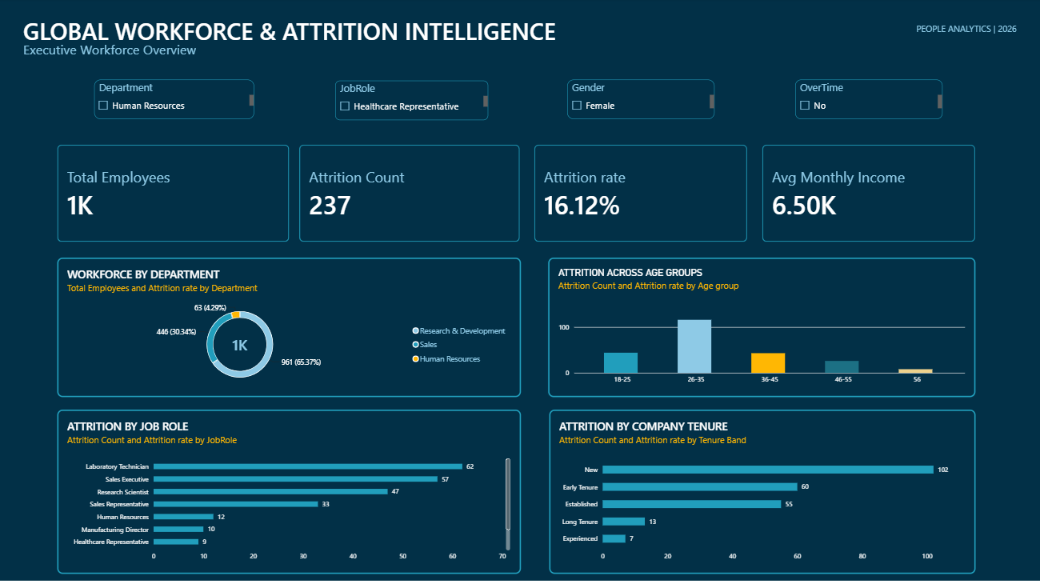

What the dashboard file says about the page in this screenshot:
{"tool":"powerbi","page":{"name":"Executive Overview","canvas":[1920,1080],"ordinal":0},"visuals":[{"type":"cardVisual","title":"Total Employees","fields":{"Data":["WA_Fn-UseC_-HR-Employee-Attrition.Total Employees"]},"box":[106.4,271.3,427.8,179.5],"z":0},{"type":"cardVisual","title":"Employees Left","fields":{"Data":["WA_Fn-UseC_-HR-Employee-Attrition.Attrition Count"]},"box":[553,271.3,407,179.5],"z":1000},{"type":"cardVisual","title":"Attrition Rate","fields":{"Data":["WA_Fn-UseC_-HR-Employee-Attrition.Attrition rate"]},"box":[985,271.3,392.3,179.5],"z":2000},{"type":"cardVisual","title":"Avg Monthly Income","fields":{"Data":["WA_Fn-UseC_-HR-Employee-Attrition.Avg Monthly Income"]},"box":[1404.5,271.3,392.3,179.5],"z":3000},{"type":"donutChart","title":"WORKFORCE BY DEPARTMENT","fields":{"Category":["WA_Fn-UseC_-HR-Employee-Attrition.Department"],"Y":["WA_Fn-UseC_-HR-Employee-Attrition.Total Employees"]},"box":[106.4,477.9,853.6,256.7],"z":4000},{"type":"barChart","title":"ATTRITION BY JOB ROLE","fields":{"Category":["WA_Fn-UseC_-HR-Employee-Attrition.JobRole"],"Y":["WA_Fn-UseC_-HR-Employee-Attrition.Attrition Count"]},"box":[106.4,757.6,853.6,302.6],"z":5000},{"type":"clusteredColumnChart","title":"ATTRITION ACROSS AGE GROUPS","fields":{"Category":["WA_Fn-UseC_-HR-Employee-Attrition.Age group"],"Y":["WA_Fn-UseC_-HR-Employee-Attrition.Attrition Count"]},"box":[1010.1,477.9,786.8,256.7],"z":6000},{"type":"barChart","title":"ATTRITION BY COMPANY TENURE","fields":{"Category":["WA_Fn-UseC_-HR-Employee-Attrition.Tenure Band"],"Y":["WA_Fn-UseC_-HR-Employee-Attrition.Attrition Count"]},"box":[1012.2,757.6,784.7,302.6],"z":7000},{"type":"slicer","fields":{"Values":["WA_Fn-UseC_-HR-Employee-Attrition.Department"]},"box":[175.3,150.3,294.3,73],"z":8000},{"type":"slicer","fields":{"Values":["WA_Fn-UseC_-HR-Employee-Attrition.JobRole"]},"box":[617.7,152.3,281.7,73],"z":9000},{"type":"slicer","fields":{"Values":["WA_Fn-UseC_-HR-Employee-Attrition.Gender"]},"box":[1045.6,150.3,271.3,73],"z":10000},{"type":"slicer","fields":{"Values":["WA_Fn-UseC_-HR-Employee-Attrition.OverTime"]},"box":[1465,150.3,271.3,73],"z":11000},{"type":"textbox","box":[43.8,12.5,1110.3,116.9],"z":12000},{"type":"textbox","box":[43.8,79.3,411.1,50.1],"z":13000},{"type":"textbox","box":[1521.4,45.9,350.6,45.9],"z":14000}]}

Visuals, with their boxes in screenshot pixels (x1, y1, x2, y2), scaled from the page's 1920x1080 canvas onto the 1040x581 screenshot:
"Total Employees" cardVisual: [58,146,289,243]
"Employees Left" cardVisual: [300,146,520,243]
"Attrition Rate" cardVisual: [534,146,746,243]
"Avg Monthly Income" cardVisual: [761,146,973,243]
"WORKFORCE BY DEPARTMENT" donutChart: [58,257,520,395]
"ATTRITION BY JOB ROLE" barChart: [58,408,520,570]
"ATTRITION ACROSS AGE GROUPS" clusteredColumnChart: [547,257,973,395]
"ATTRITION BY COMPANY TENURE" barChart: [548,408,973,570]
slicer - WA_Fn-UseC_-HR-Employee-Attrition.Department: [95,81,254,120]
slicer - WA_Fn-UseC_-HR-Employee-Attrition.JobRole: [335,82,487,121]
slicer - WA_Fn-UseC_-HR-Employee-Attrition.Gender: [566,81,713,120]
slicer - WA_Fn-UseC_-HR-Employee-Attrition.OverTime: [794,81,940,120]
textbox: [24,7,625,70]
textbox: [24,43,246,70]
textbox: [824,25,1014,49]
